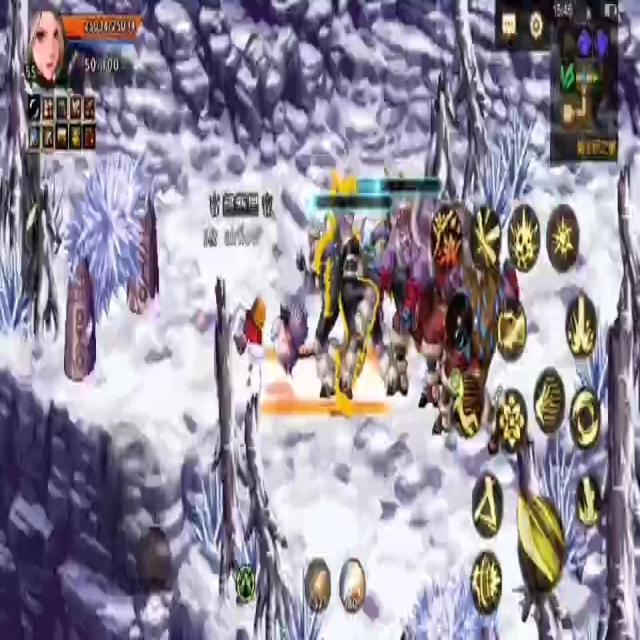player: (227, 286, 270, 429)
